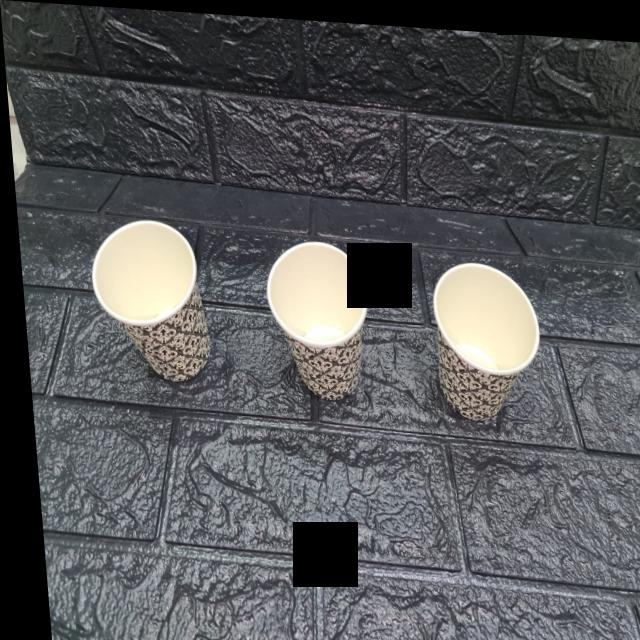cups: (88, 209, 209, 385), (421, 256, 548, 421), (260, 232, 376, 395)
